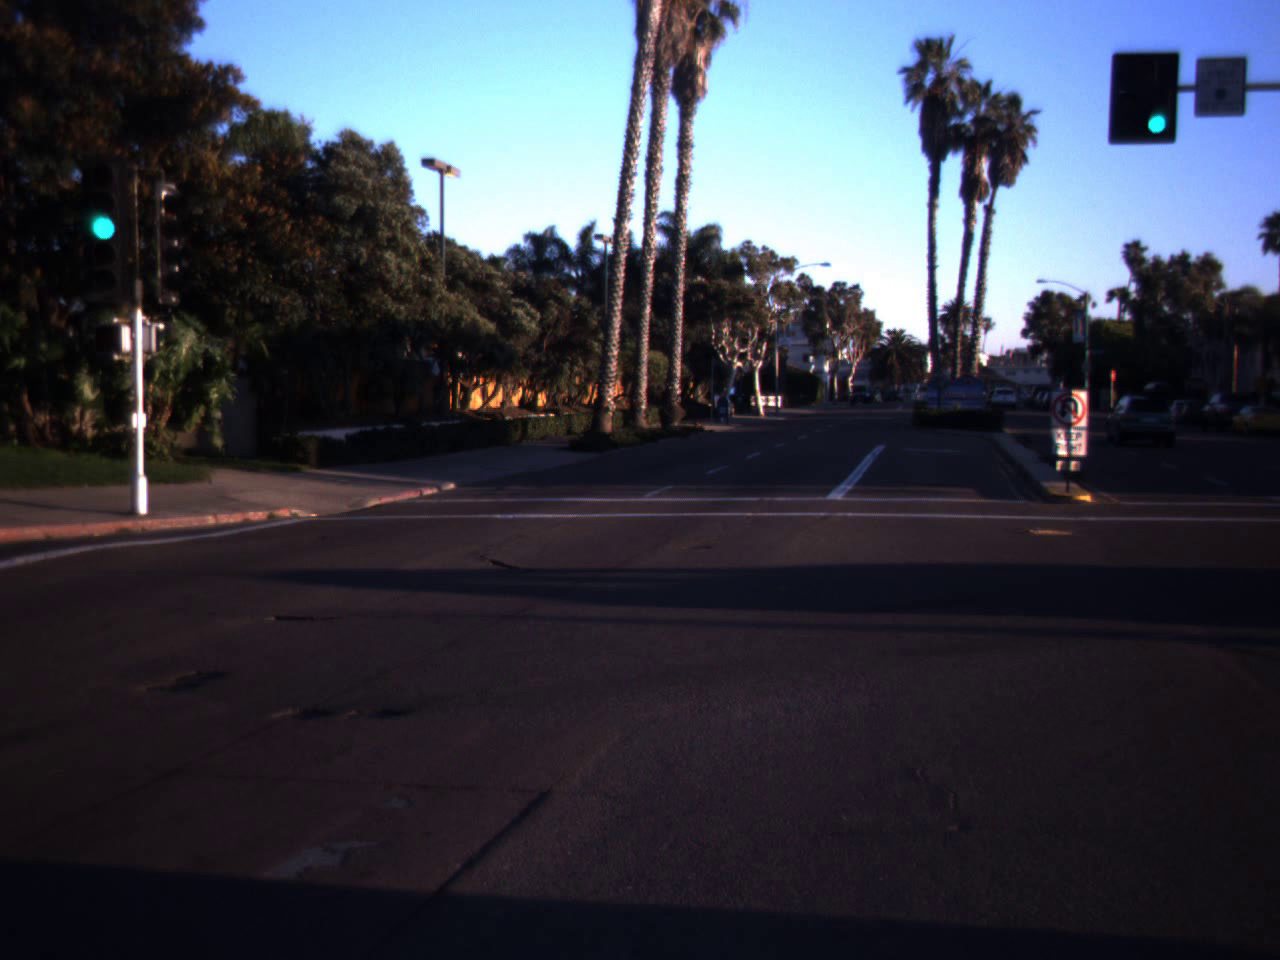go: (74, 148, 134, 248), (1134, 60, 1179, 140)
